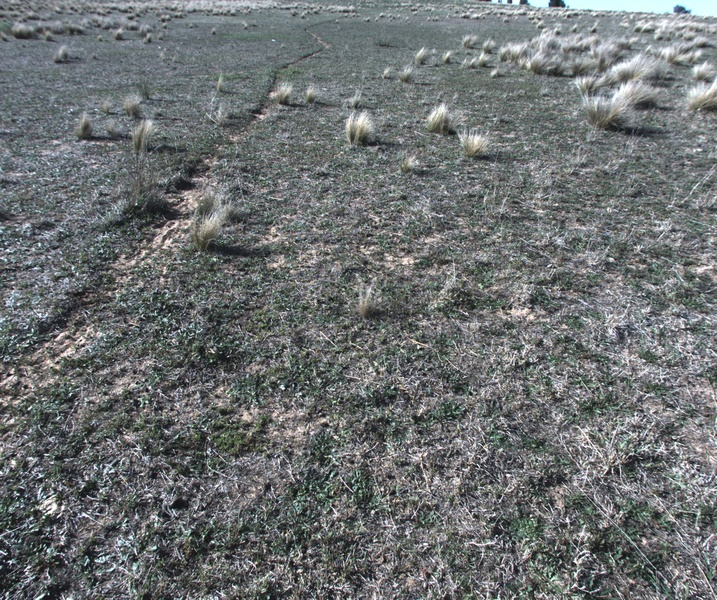st: (343, 277, 389, 320), (588, 92, 633, 131), (619, 84, 668, 118), (425, 100, 460, 142), (129, 112, 159, 160), (190, 208, 223, 247), (344, 111, 376, 146), (460, 125, 490, 158), (613, 56, 648, 83), (522, 50, 548, 75), (691, 83, 717, 107), (52, 43, 75, 70), (122, 89, 142, 118), (268, 82, 294, 104), (73, 115, 95, 137), (97, 96, 118, 118), (343, 83, 362, 107), (304, 80, 320, 108), (694, 63, 713, 83), (412, 44, 430, 65), (439, 46, 459, 64), (459, 33, 477, 51), (400, 64, 414, 86), (480, 34, 492, 54), (474, 53, 489, 69), (218, 70, 227, 92), (490, 69, 506, 80), (381, 67, 392, 80)
